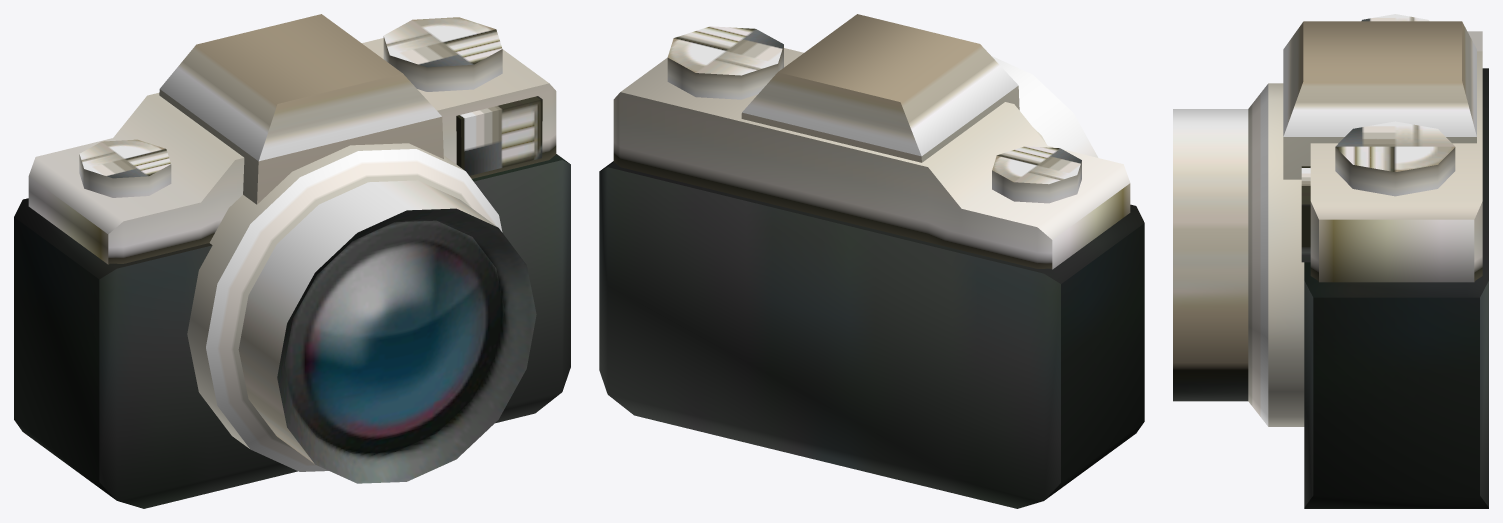
Rendered from camera.glb.
3 views of the same model, side by side, from view 1: azimuth 30°, elevation 25°; view 2: azimuth 150°, elevation 25°; view 3: azimuth 270°, elevation 25° (orthographic). The views are drawn at different scales.
Visible parts, largest first — view 1: polygon0; view 2: polygon0; view 3: polygon0.
Boxes of the visible parts, <box> form: polygon0: <box>14,14,570,508</box>; polygon0: <box>599,14,1144,508</box>; polygon0: <box>1173,14,1488,508</box>.
Size of the model in its own units: 10.46 by 7.91 by 6.21.
1 material, 1 textured.
